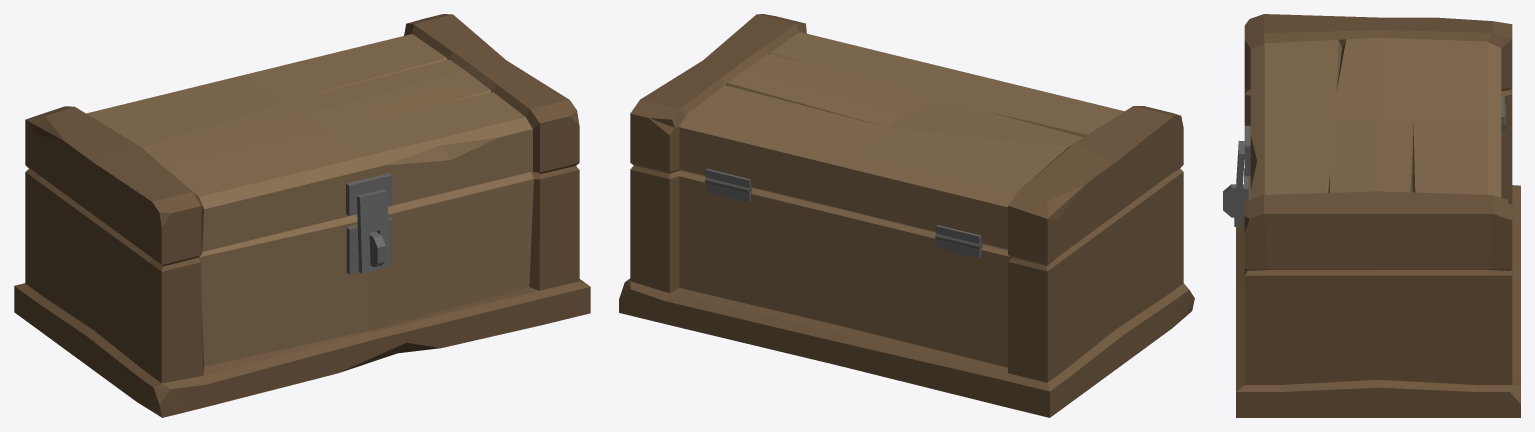
Rendered from castle_chest.gltf.
3 views of the same model, side by side, from view 1: azimuth 30°, elevation 25°; view 2: azimuth 150°, elevation 25°; view 3: azimuth 270°, elevation 25° (orthographic).
Parts seen in each view (by area): view 1: castle_chest; view 2: castle_chest; view 3: castle_chest.
Boxes of the visible parts, x1,y1,x2,y2 form: castle_chest: [14, 14, 590, 417]; castle_chest: [619, 14, 1194, 417]; castle_chest: [1223, 14, 1520, 417].
Size of the model in its own units: 1 by 0.4635 by 0.6098.
1 material, 1 textured.
